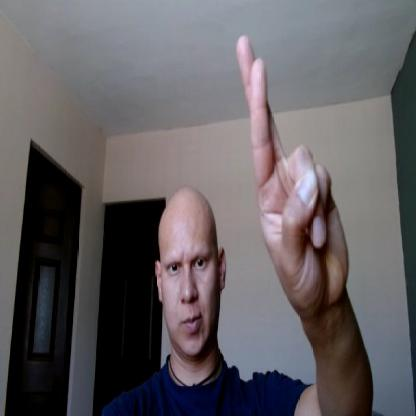R: (236, 32, 349, 308)
